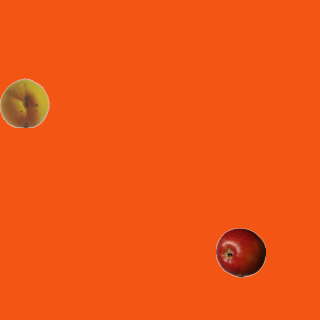Apple Braeburn: (215, 227, 265, 277)
Peach 2: (0, 77, 49, 127)
